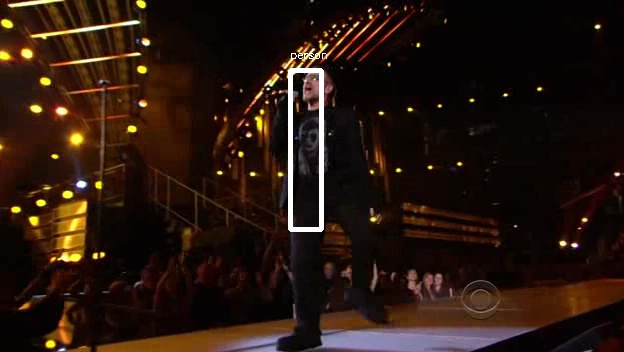person: (278, 67, 369, 239), (275, 67, 366, 239), (281, 67, 372, 239), (278, 64, 369, 236), (278, 70, 369, 242)
target_negative: (379, 198, 541, 351), (131, 291, 544, 349), (384, 308, 570, 350), (148, 120, 179, 239), (435, 206, 517, 246), (418, 132, 579, 138)
